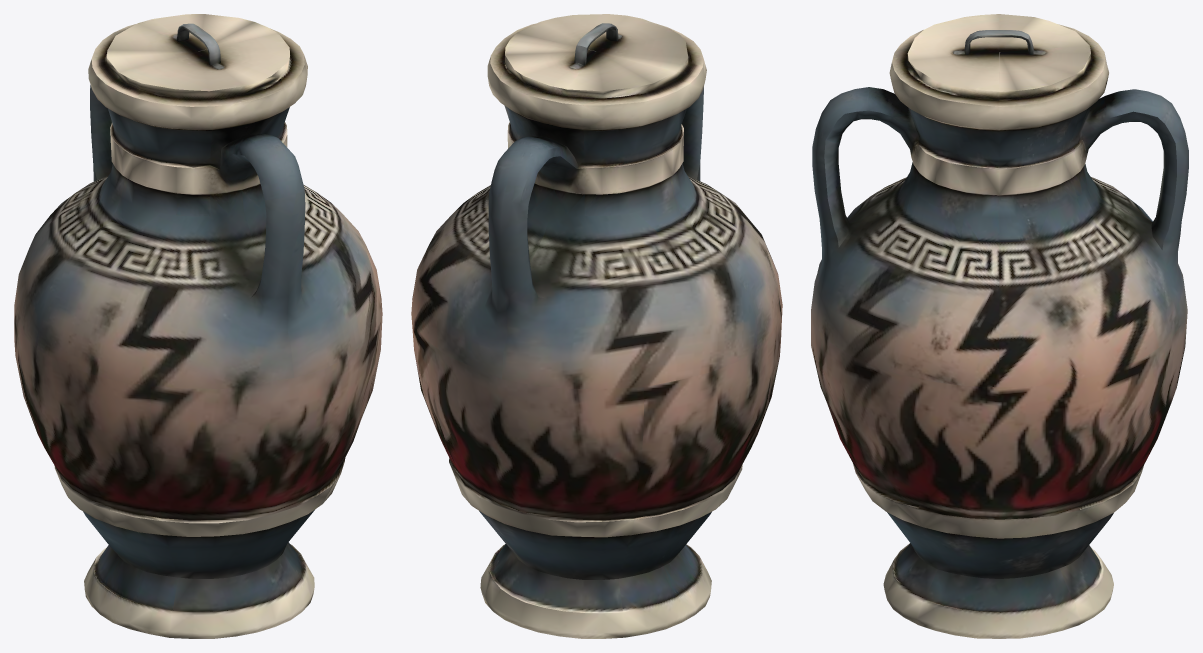
File: obj_vase_big.glb
3 views of the same model, side by side, from view 1: azimuth 30°, elevation 25°; view 2: azimuth 150°, elevation 25°; view 3: azimuth 270°, elevation 25° (orthographic).
Visible parts, largest first — view 1: model; view 2: model; view 3: model.
Part boxes in pixels (x1,y1,x2,y2): model: [14, 14, 382, 638]; model: [411, 14, 782, 638]; model: [811, 14, 1188, 638].
Bounding box in the file's own units: 0.6008 × 1 × 0.6125.
1 material, 1 textured.
